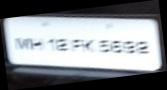character: (55, 38, 68, 52), (14, 38, 28, 50), (47, 38, 55, 50)
